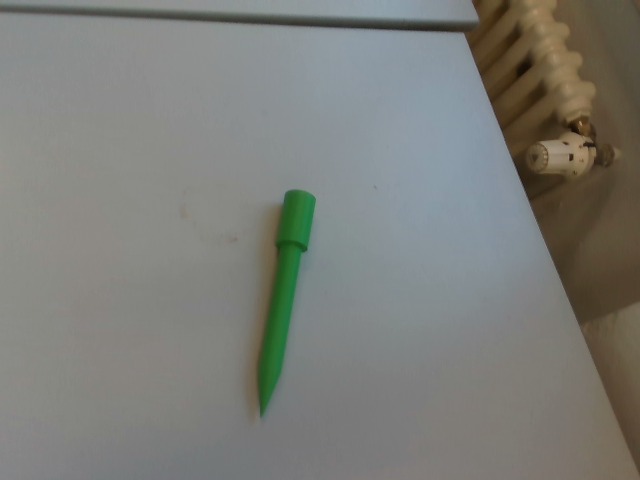Probe: (251, 185, 322, 423)
